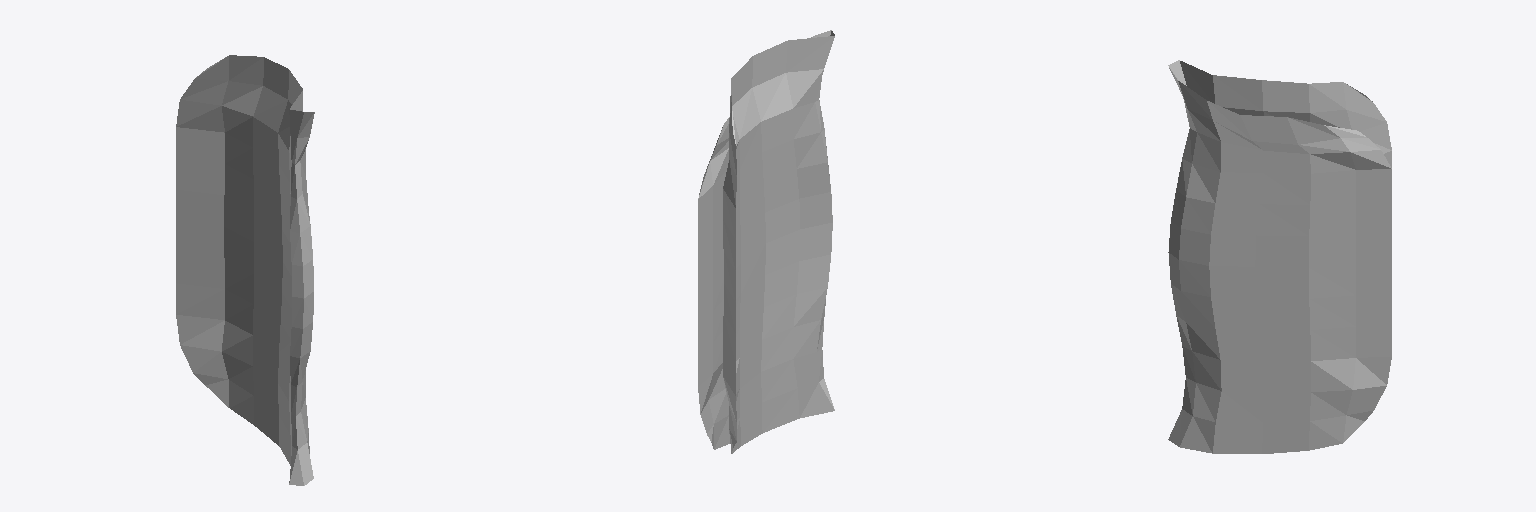
The model's file is elegant_console.obj.
3 views of the same model, side by side, from view 1: azimuth 30°, elevation 25°; view 2: azimuth 150°, elevation 25°; view 3: azimuth 270°, elevation 25° (orthographic).
Visible parts, largest first — view 1: Plane01; view 2: Plane01; view 3: Plane01.
Boxes of the visible parts, box(x1,y1,x2,y2) form: Plane01: box(176, 55, 314, 485); Plane01: box(698, 30, 834, 453); Plane01: box(1168, 60, 1391, 453).
Bounding box in the file's own units: 1.01 × 7.59 × 4.11.